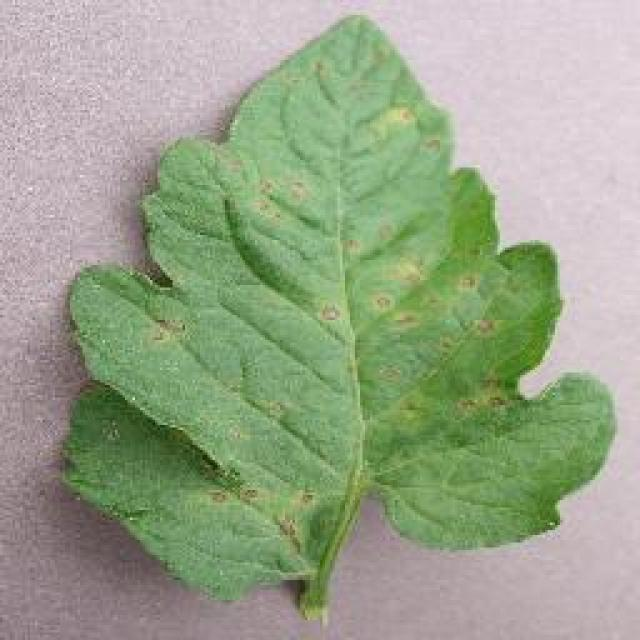Tomato target spot leaf: (59, 11, 614, 599)
